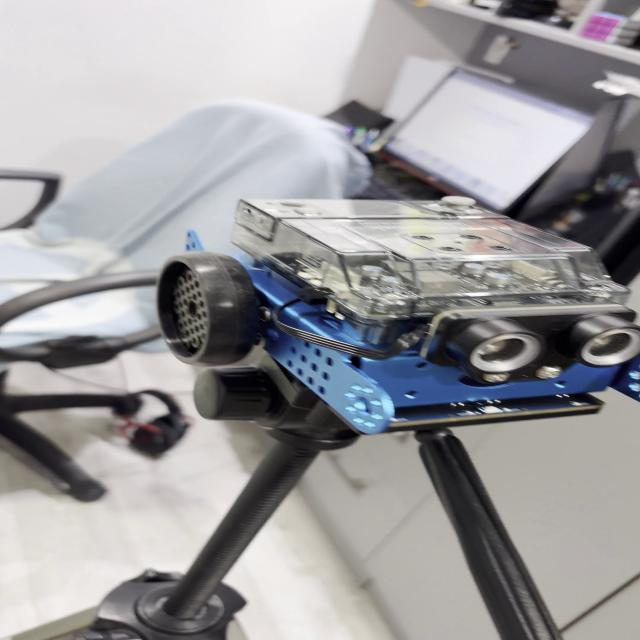mbot-detection: (149, 186, 640, 441)
